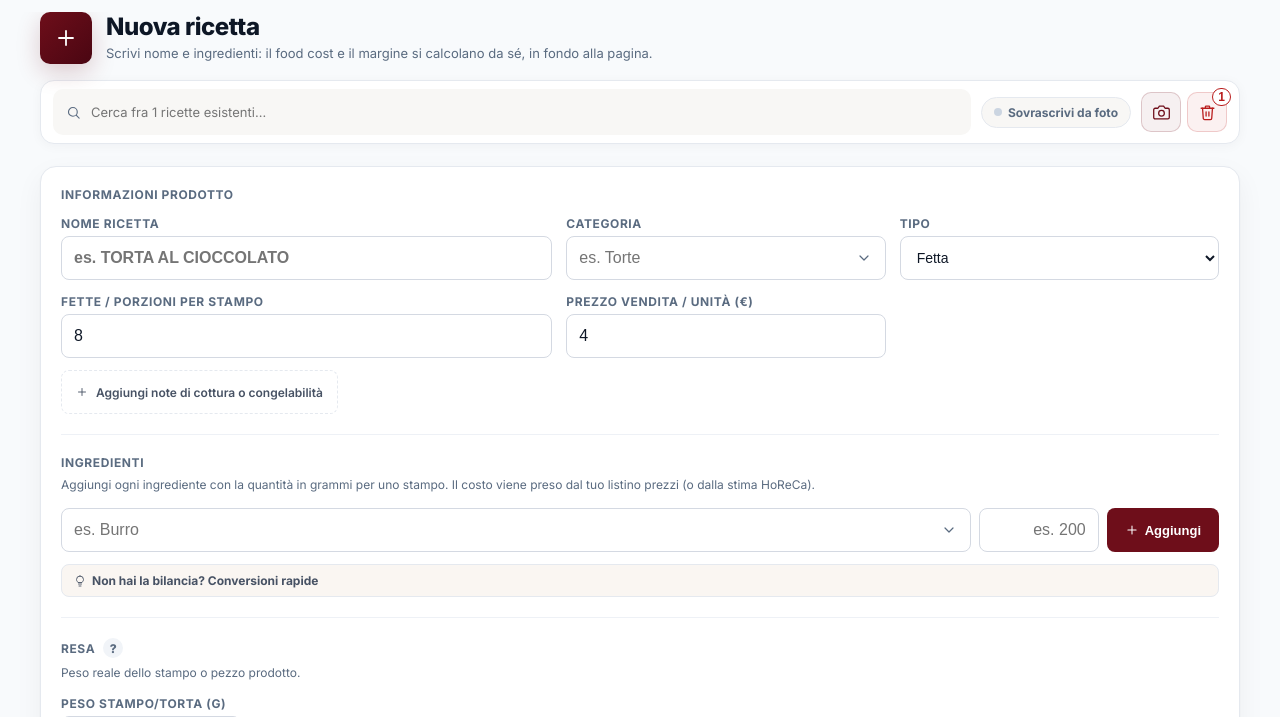
Nuovo gusto - il plurale non cancella il prezzo della materia prima › anche il doppio spazio trova la materia prima che c'è già
Type "Farina  00" into the dropdown named "nome ingrediente da aggiungere" at (516, 530), box [61,508,971,552]
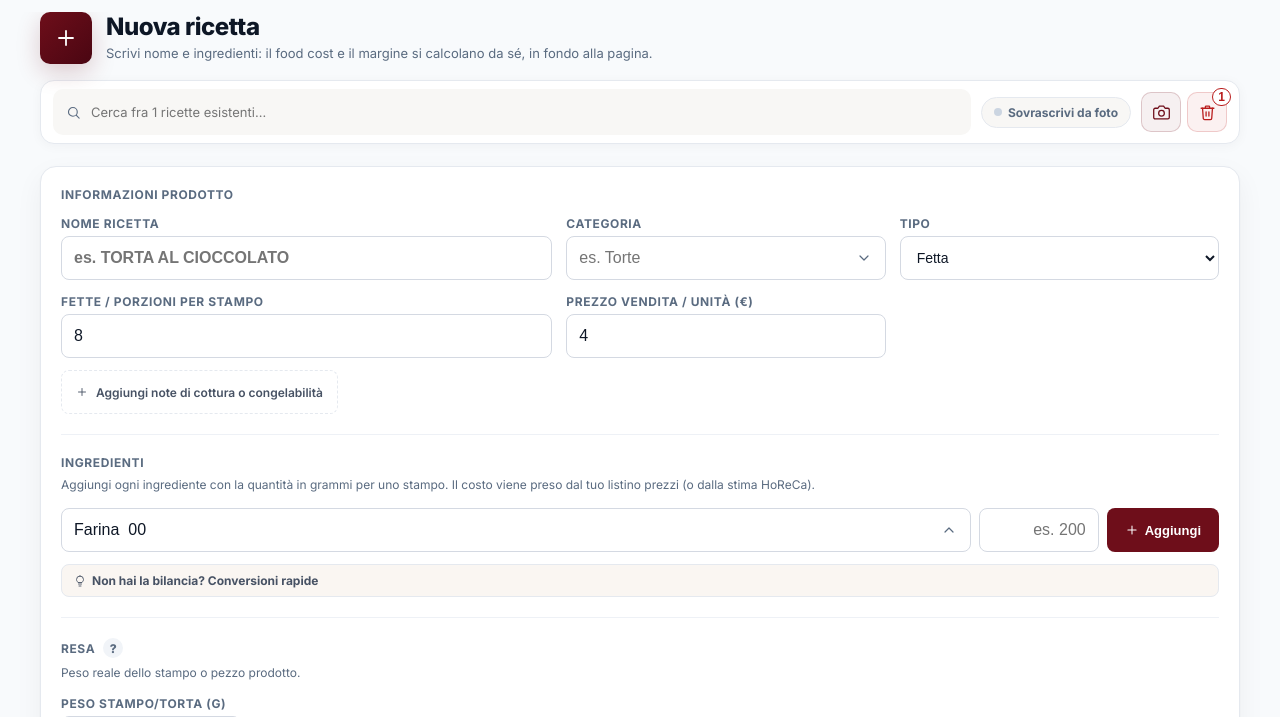
Type "1000" into the field named "grammi di ingrediente da aggiungere" at (1039, 530), box [979,508,1099,552]
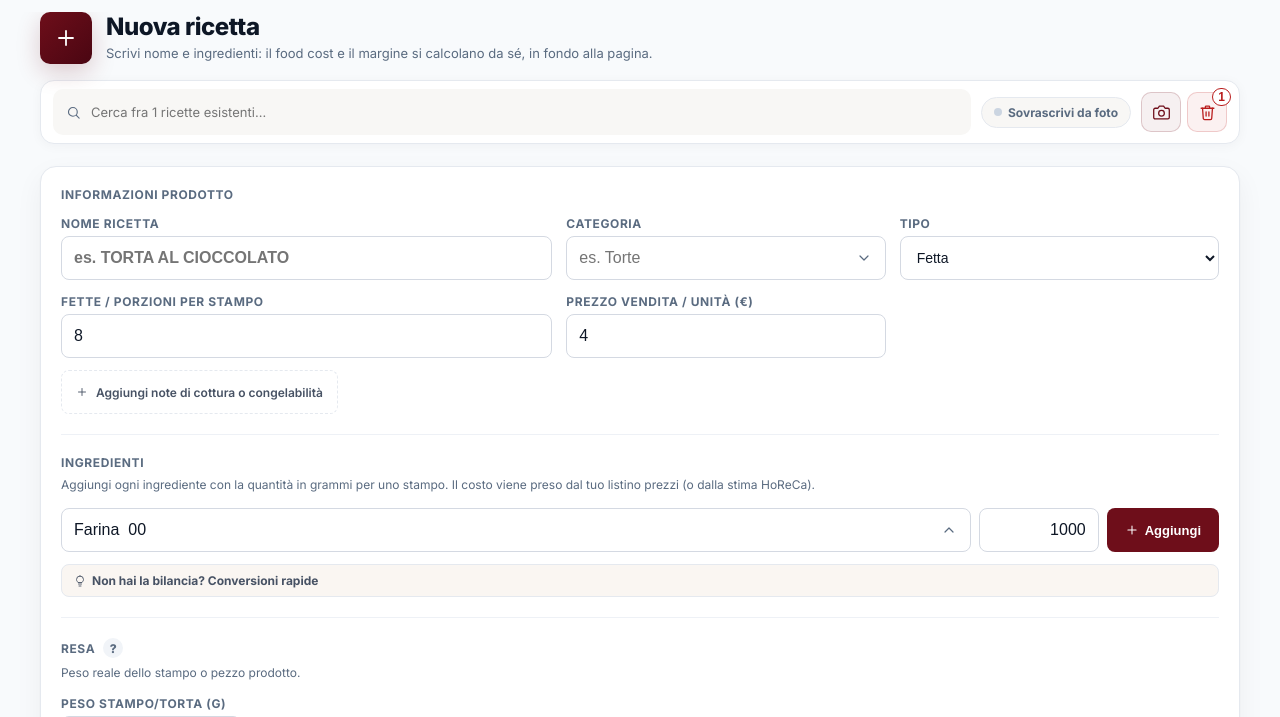
Click the button with aria-label "Aggiungi ingrediente alla ricetta" at (1163, 530), box [1107,508,1219,552]
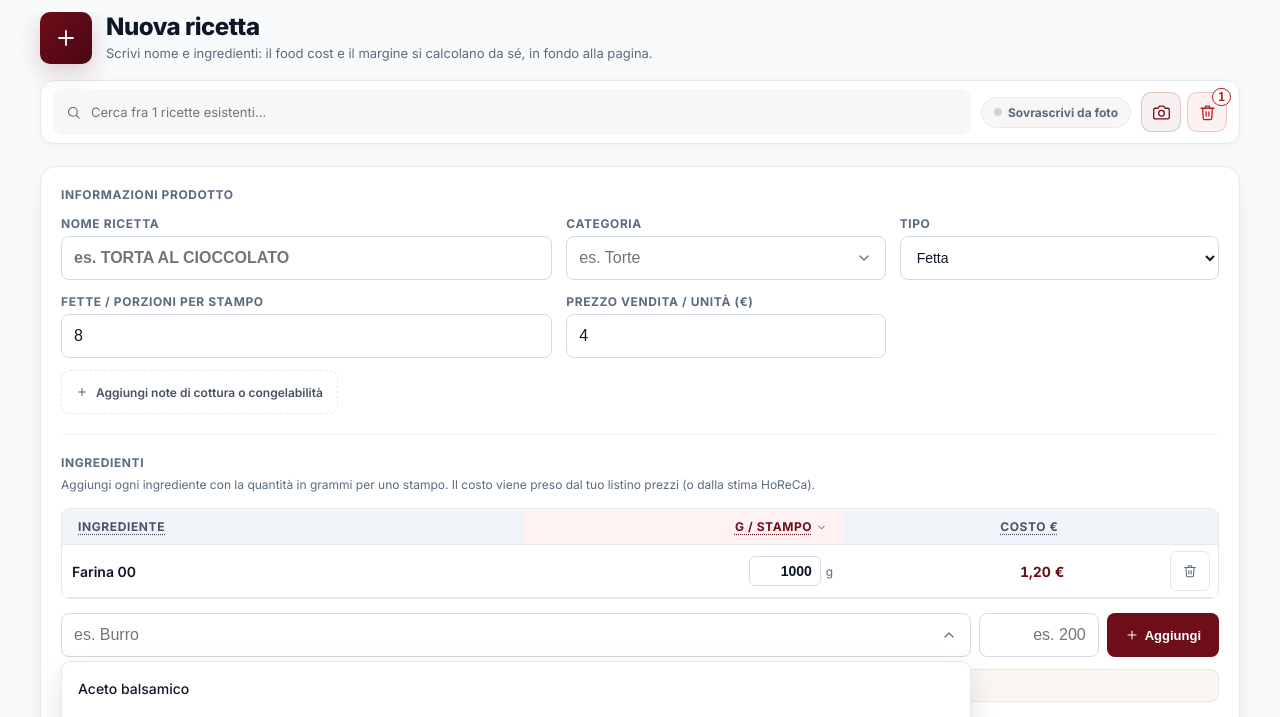
Result: the text "1,20 €" is shown at [843,544,1074,598]
